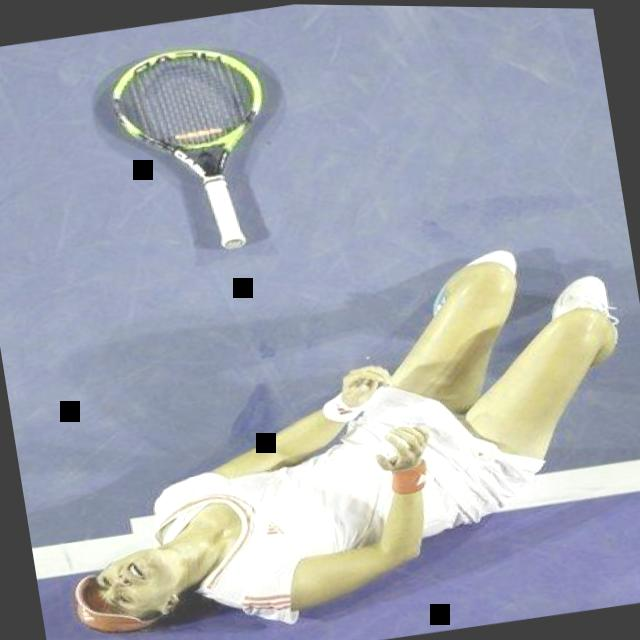Fall-Detected: (21, 209, 640, 640)
